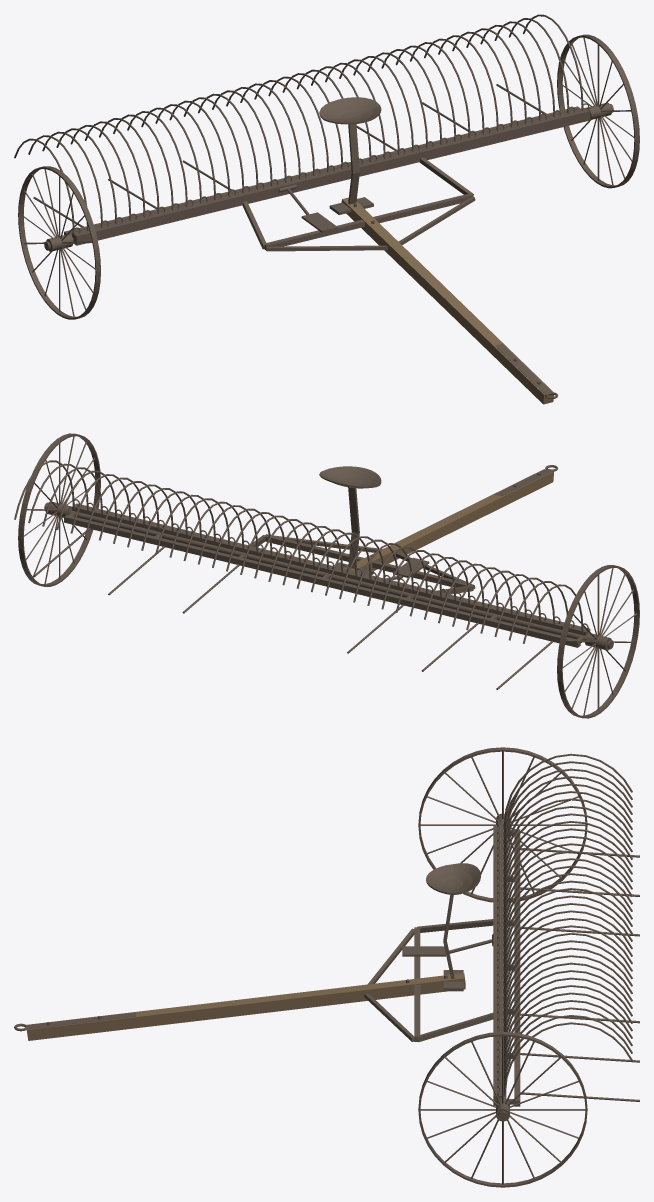
Rendered from NEW456_hay_rake_LOD2.glb.
3 renders of one model, top to bottom at view 1: azimuth 30°, elevation 25°; view 2: azimuth 150°, elevation 25°; view 3: azimuth 270°, elevation 25°, orthographic. The views are drawn at different scales.
Visible parts, largest first — view 1: rake_head_front, wood_drawbar, wheel_L_rim, wheel_R_rim, rake_head_rear, front_crossbar, seat_pan, drawbar_brace_-1; view 2: rake_head_rear, rake_head_front, wood_drawbar, fixed_axle, wheel_L_rim, wheel_R_rim, front_crossbar, seat_pan; view 3: wood_drawbar, rake_head_front, wheel_R_rim, wheel_L_rim, seat_pan, rake_head_rear, front_crossbar.
Part boxes in pixels (box(x1,y1,x2,y2)): rake_head_front: box(72, 107, 590, 245); wood_drawbar: box(341, 197, 553, 404); wheel_L_rim: box(18, 166, 100, 319); wheel_R_rim: box(557, 34, 639, 188); rake_head_rear: box(64, 106, 580, 234); front_crossbar: box(264, 193, 473, 250); seat_pan: box(319, 97, 381, 124); drawbar_brace_-1: box(266, 245, 387, 251); rake_head_rear: box(64, 515, 580, 647); rake_head_front: box(72, 503, 590, 635); wood_drawbar: box(343, 469, 553, 571); fixed_axle: box(70, 510, 608, 646); wheel_L_rim: box(557, 565, 639, 718); wheel_R_rim: box(18, 433, 100, 586); front_crossbar: box(264, 534, 473, 591); seat_pan: box(319, 466, 381, 488); wood_drawbar: box(26, 973, 465, 1040); rake_head_front: box(493, 824, 503, 1105); wheel_R_rim: box(418, 1032, 587, 1187); wheel_L_rim: box(418, 747, 587, 902); seat_pan: box(426, 863, 480, 895); rake_head_rear: box(514, 829, 520, 1106); front_crossbar: box(414, 927, 420, 1041).
Size of the model in its own units: 3.71 by 0.98 by 3.29.
